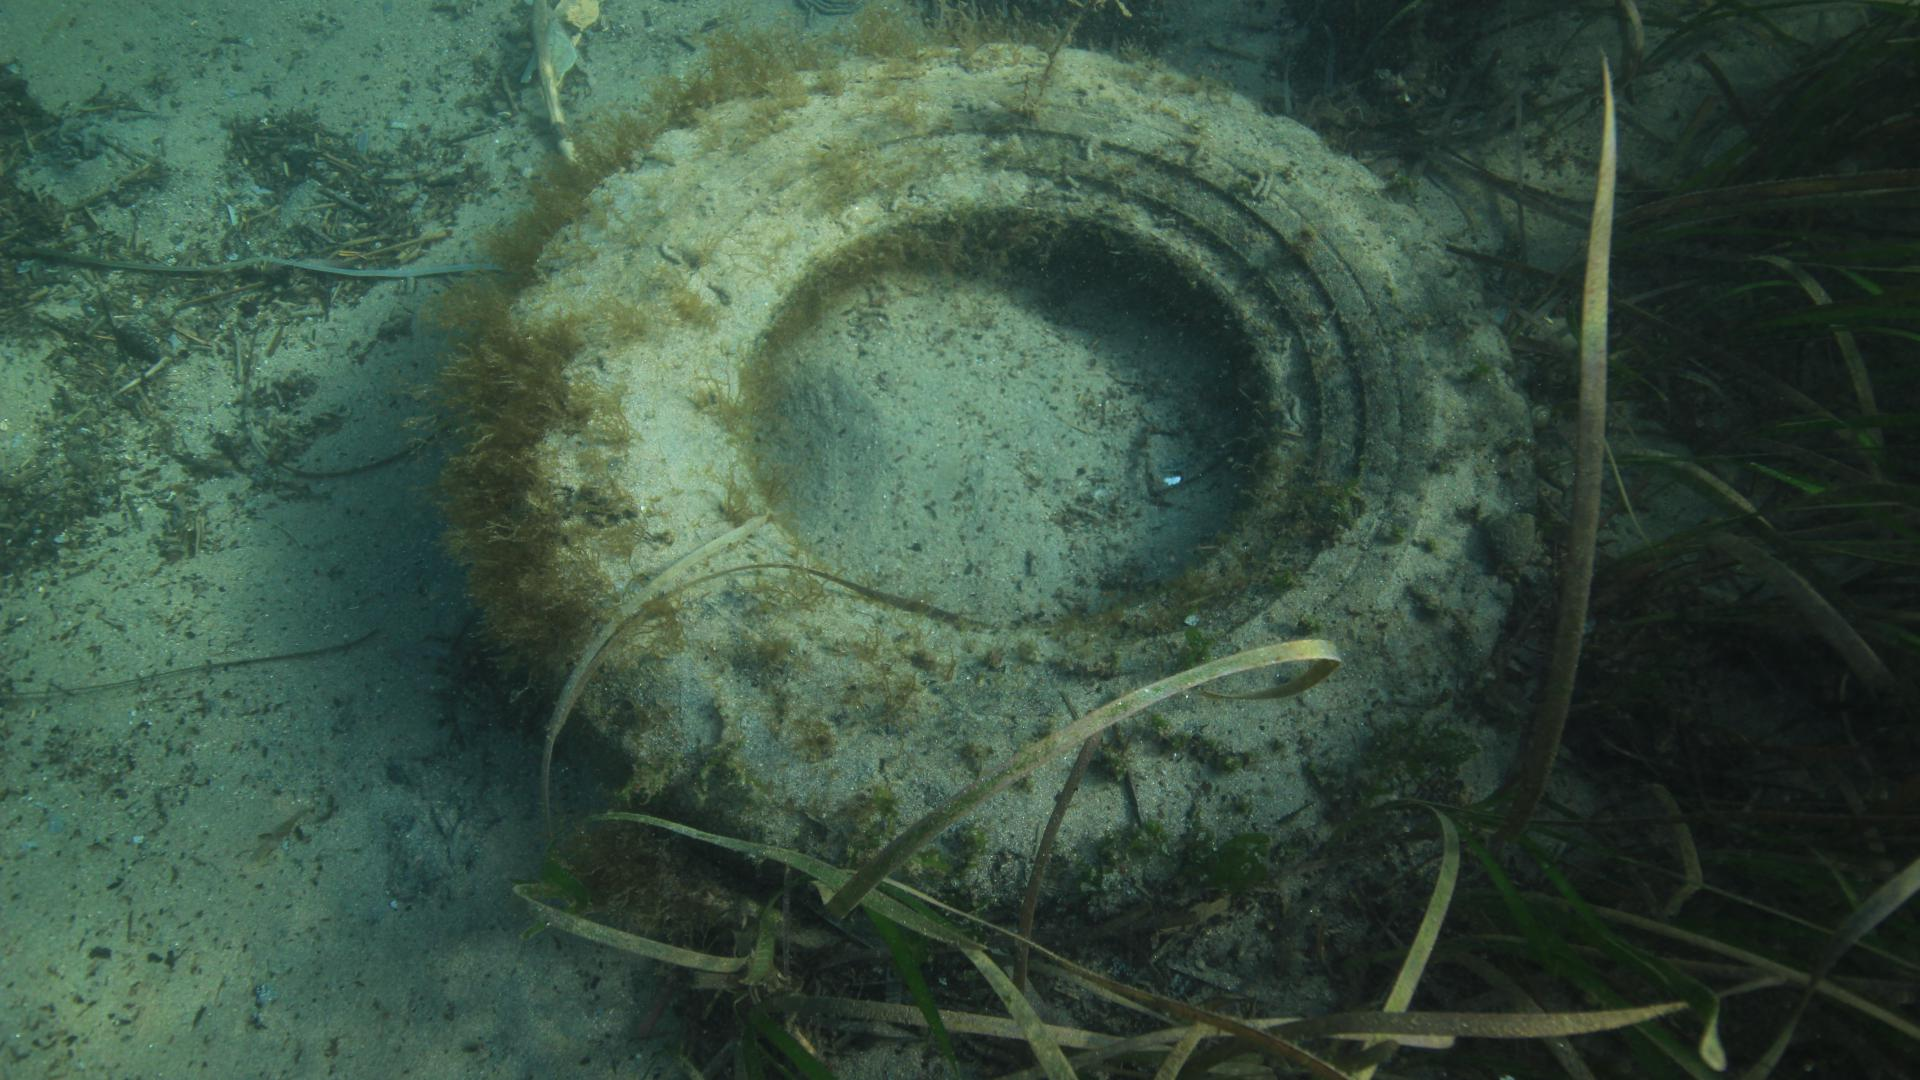tire: (502, 42, 1535, 920)
